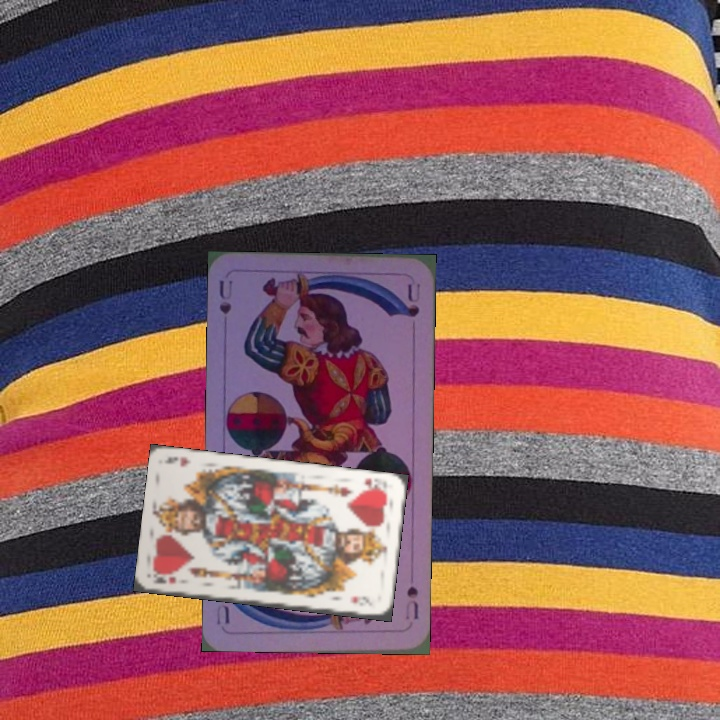HK: (357, 474, 389, 495), (149, 572, 179, 587)
SU: (215, 276, 235, 317), (401, 582, 421, 622)
